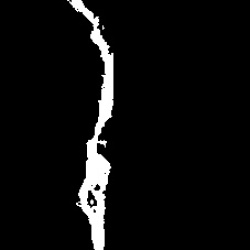crack: (70, 1, 114, 249)
